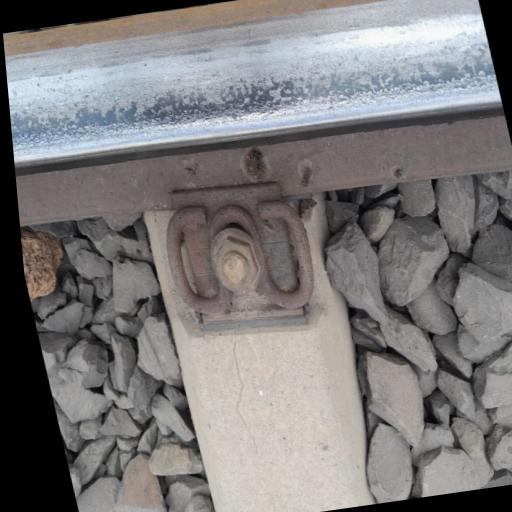bolt: (199, 224, 269, 303)
clip: (146, 164, 329, 346)
